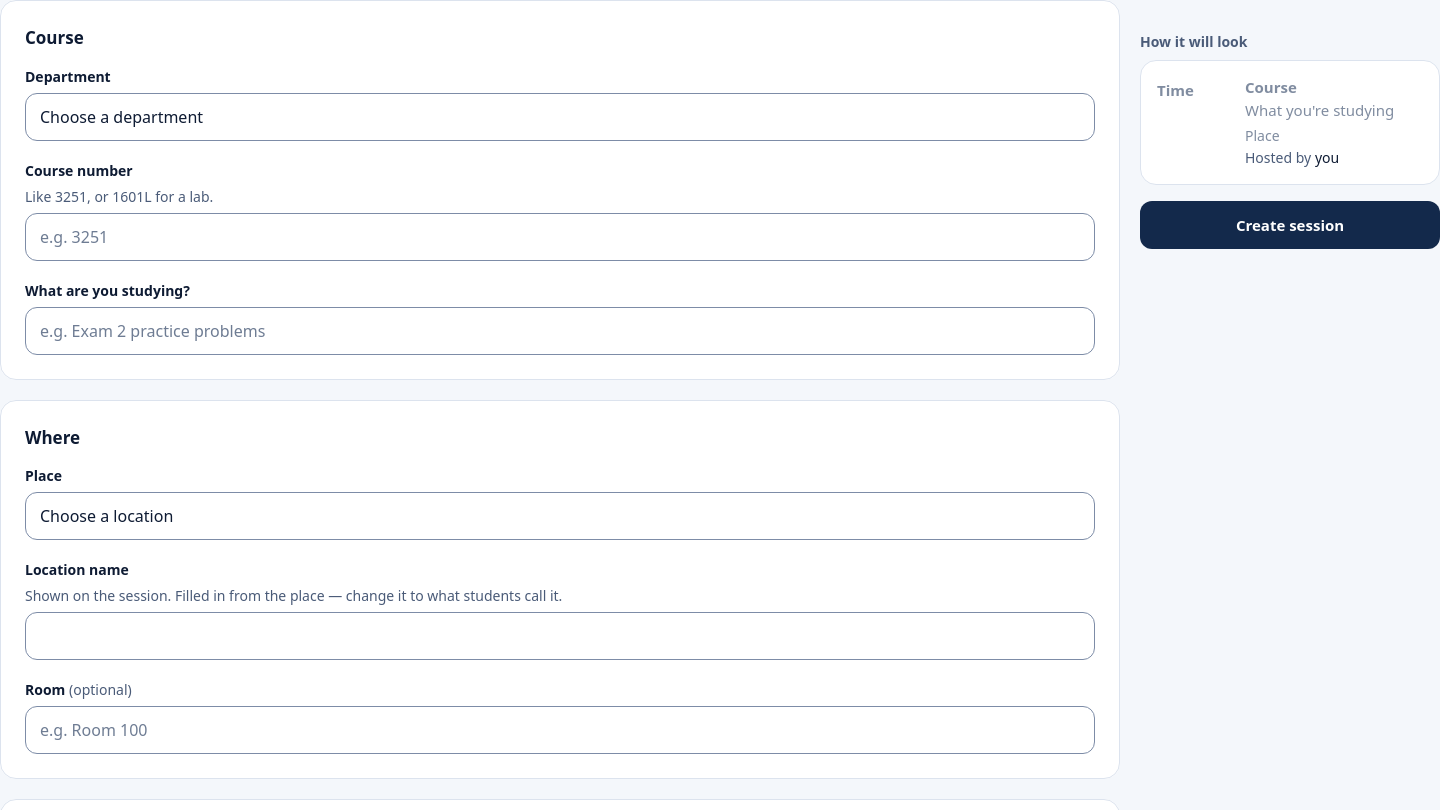
<CreateSessionForm> course typeahead › offers to create a course nobody has studied yet
Select "CS — Computer Science" in the dropdown labelled "Department". click: [560, 116]
box: left=25, top=92, right=1095, bottom=140
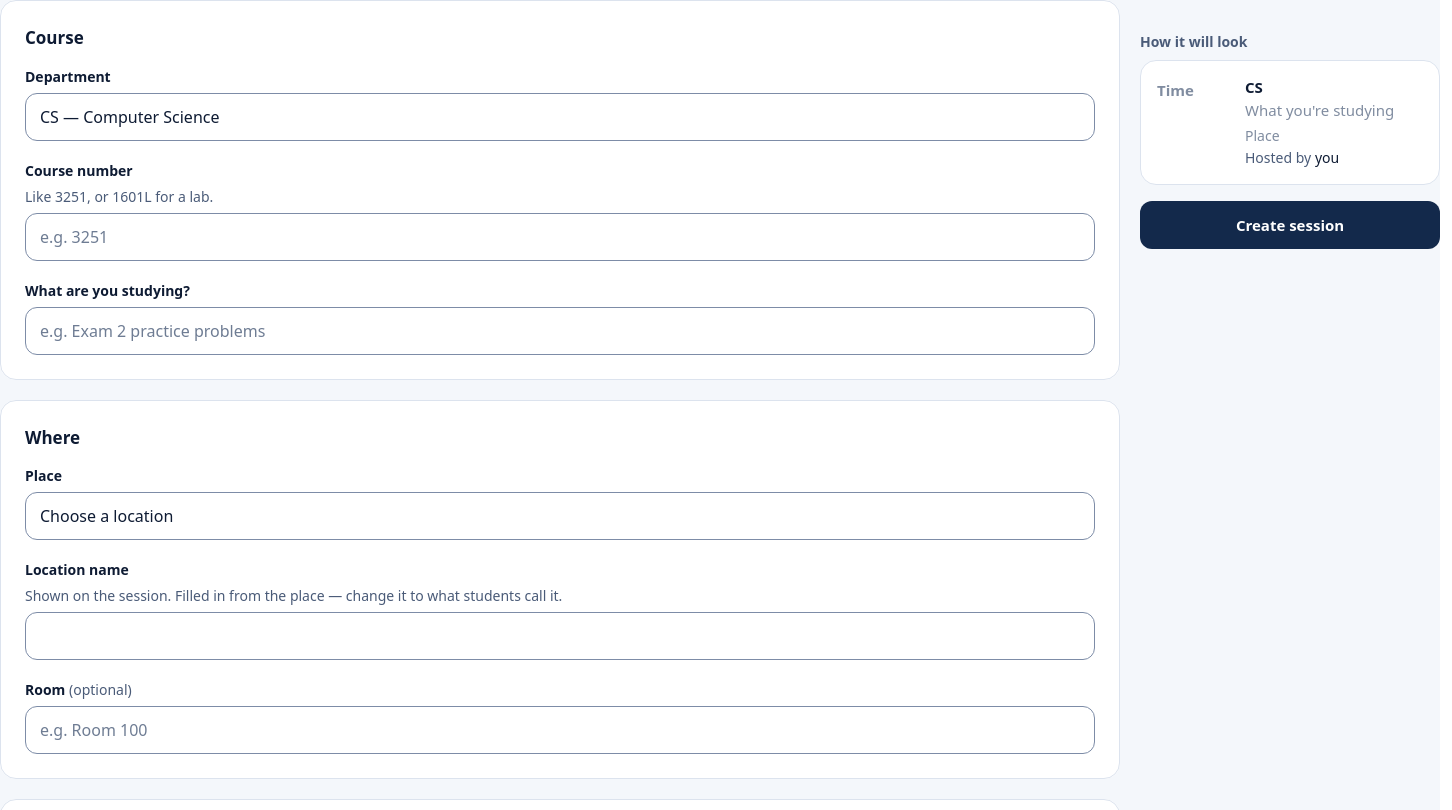
Type "9999" into the dropdown labelled "Course number". click: [560, 236]
box: left=25, top=212, right=1095, bottom=260
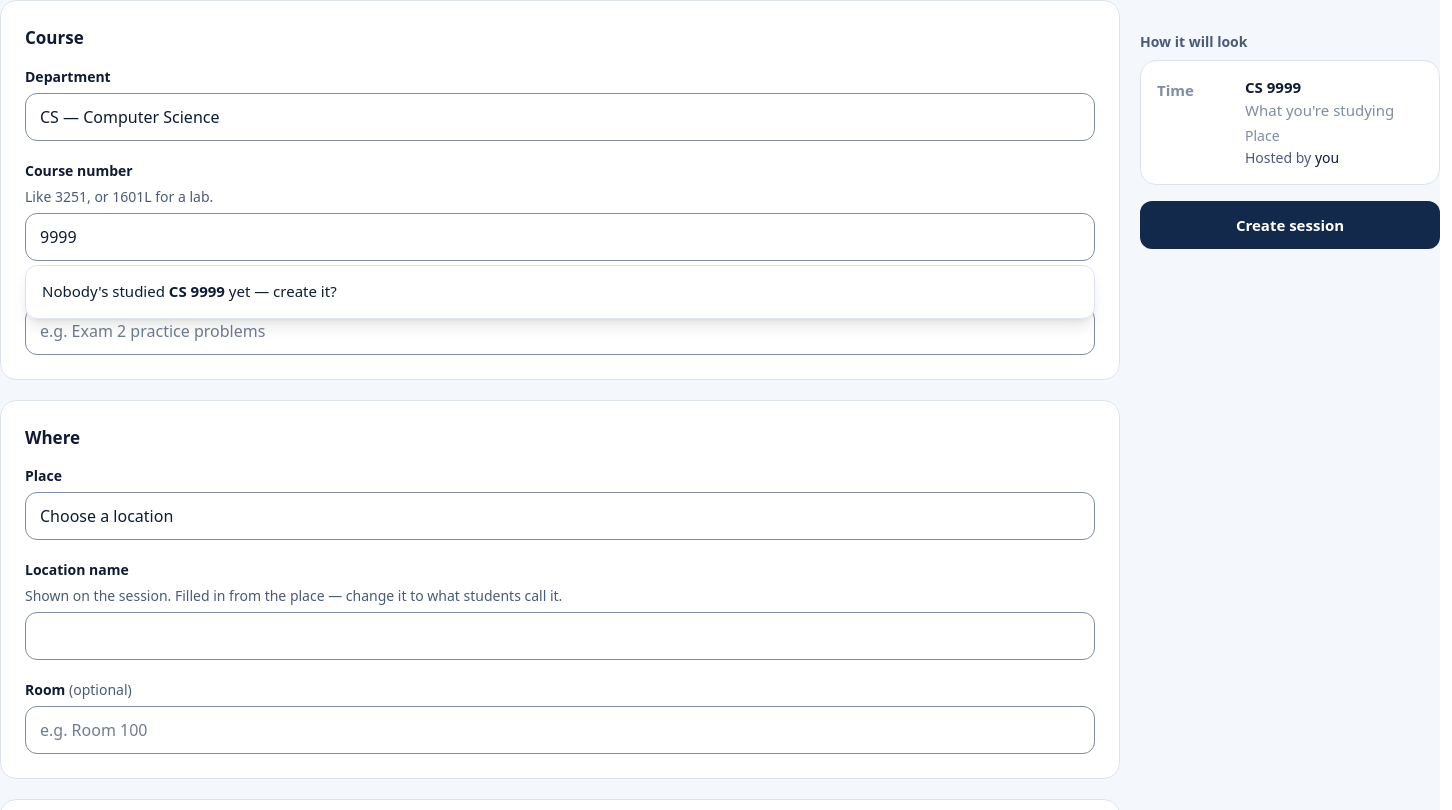
Click the option "Nobody's studied CS 9999 yet — create it?". click: [189, 291]
box: left=42, top=281, right=337, bottom=301
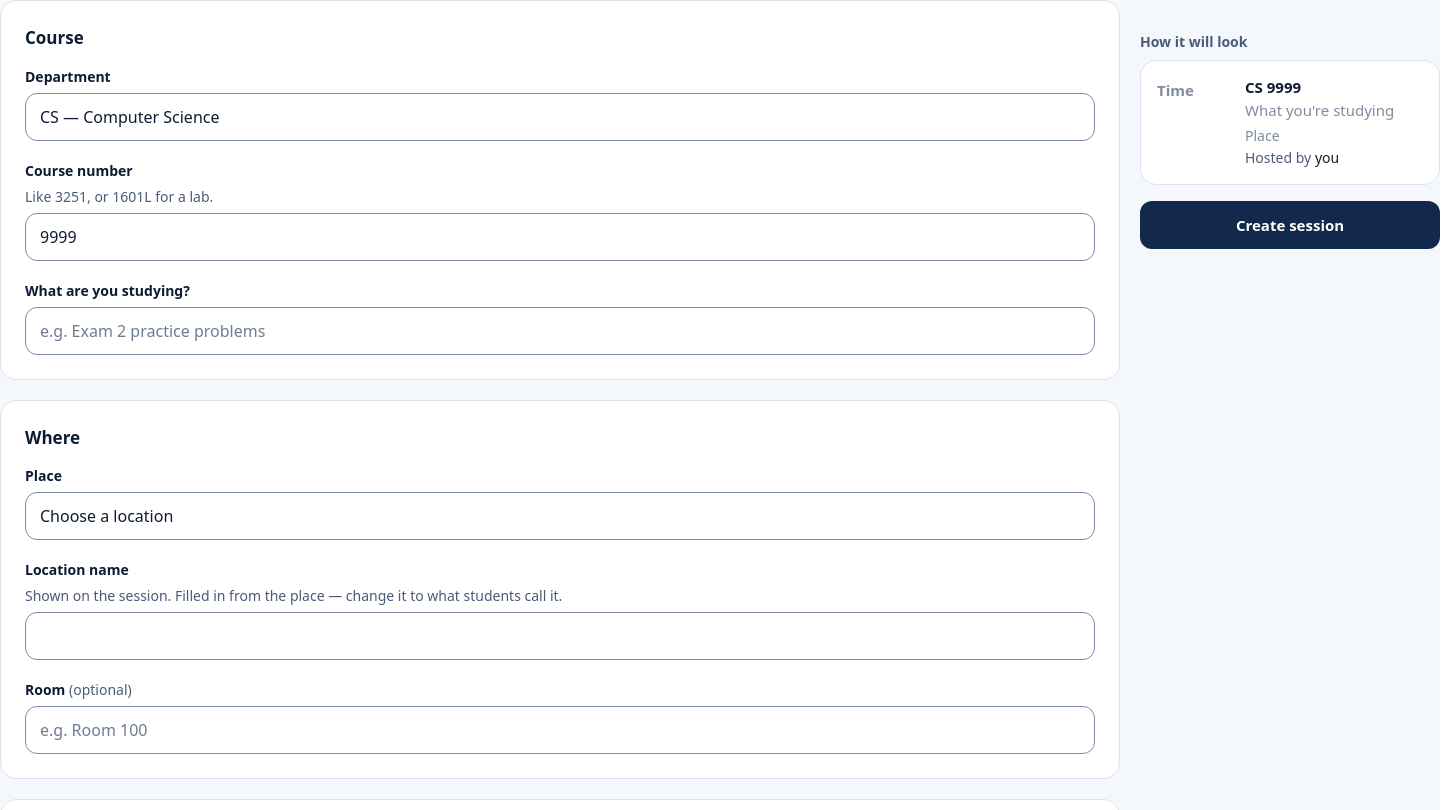
Check: the list is gone
